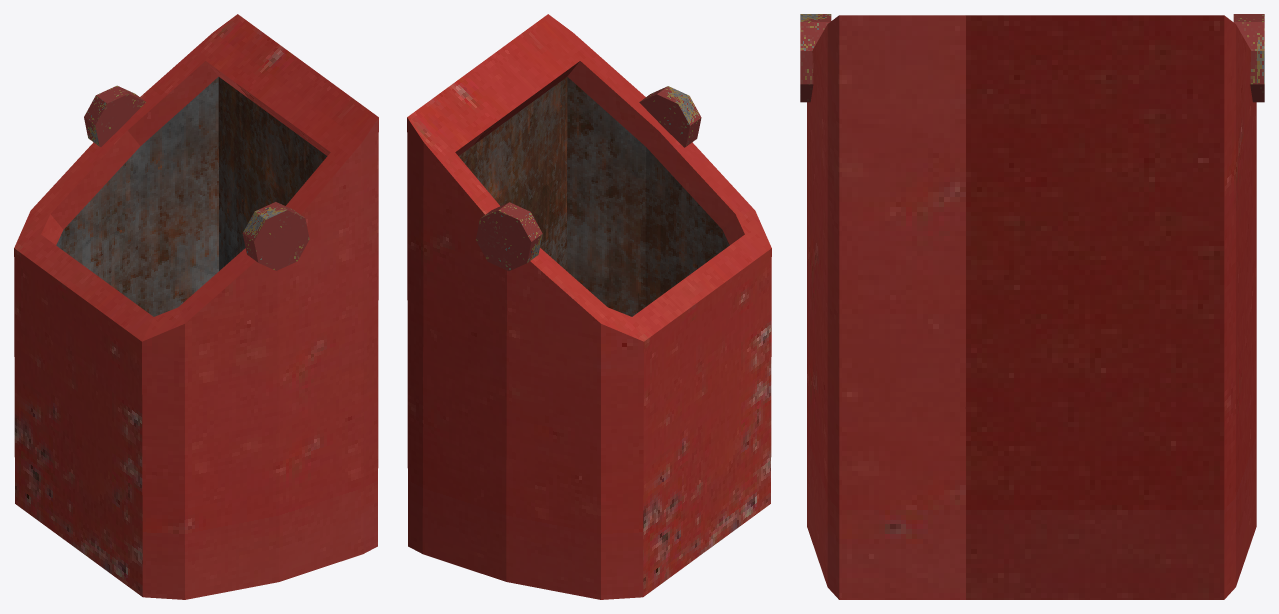
The model's file is dispenser_body.glb.
The picture shows the model from 3 angles, left to right: view 1: azimuth 30°, elevation 25°; view 2: azimuth 150°, elevation 25°; view 3: azimuth 270°, elevation 25°; orthographic projection. The views are drawn at different scales.
Visible parts, largest first — view 1: Cube.003, Cylinder.016, Cylinder.015; view 2: Cube.003, Cylinder.015, Cylinder.016; view 3: Cube.003, Cylinder.015, Cylinder.016.
Part boxes in pixels (x1,y1,x2,y2): Cube.003: (14,14,378,599); Cylinder.016: (242,202,309,270); Cylinder.015: (84,85,145,146); Cube.003: (407,14,771,599); Cylinder.015: (475,202,542,271); Cylinder.016: (639,86,701,147); Cube.003: (807,15,1256,599); Cylinder.015: (1233,14,1264,102); Cylinder.016: (800,14,831,102).
Size of the model in its own units: 1.13 by 2.02 by 1.45.
3 materials, 3 textured.
